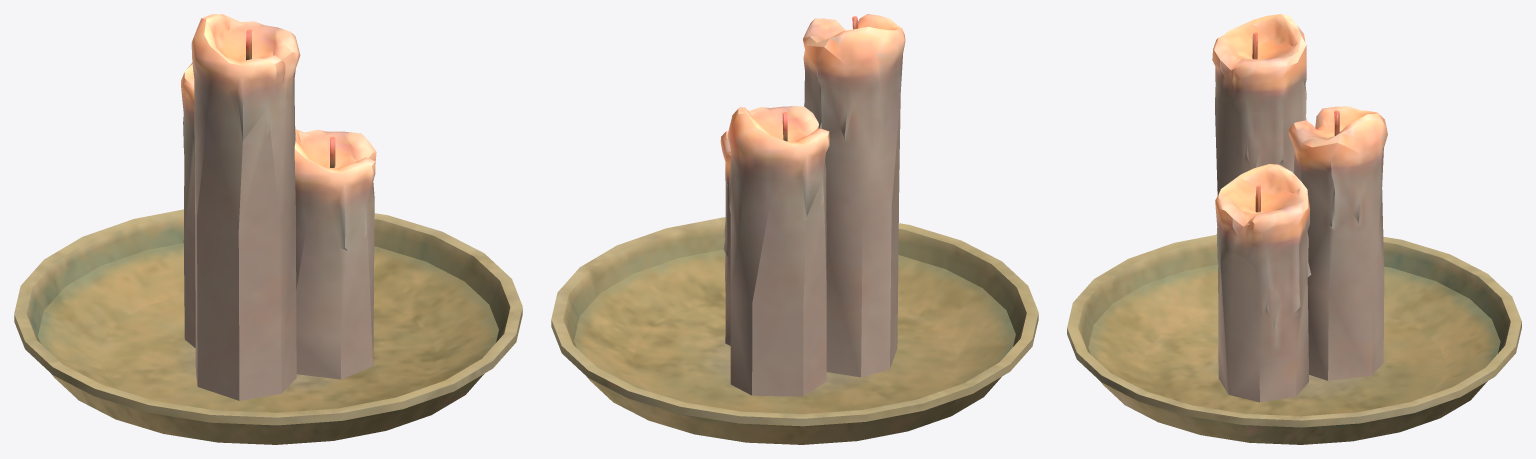
The model's file is candle-tray-three.glb.
3 renders of one model, left to right at view 1: azimuth 30°, elevation 25°; view 2: azimuth 150°, elevation 25°; view 3: azimuth 270°, elevation 25°, orthographic. The views are drawn at different scales.
Visible parts, largest first — view 1: candle-tray-three; view 2: candle-tray-three; view 3: candle-tray-three.
Boxes of the visible parts, x1,y1,x2,y2 form: candle-tray-three: (14,14,522,444); candle-tray-three: (551,14,1038,444); candle-tray-three: (1067,14,1521,444).
Bounding box in the file's own units: 0.1059 × 0.0873 × 0.1059.
1 material, 1 textured.
